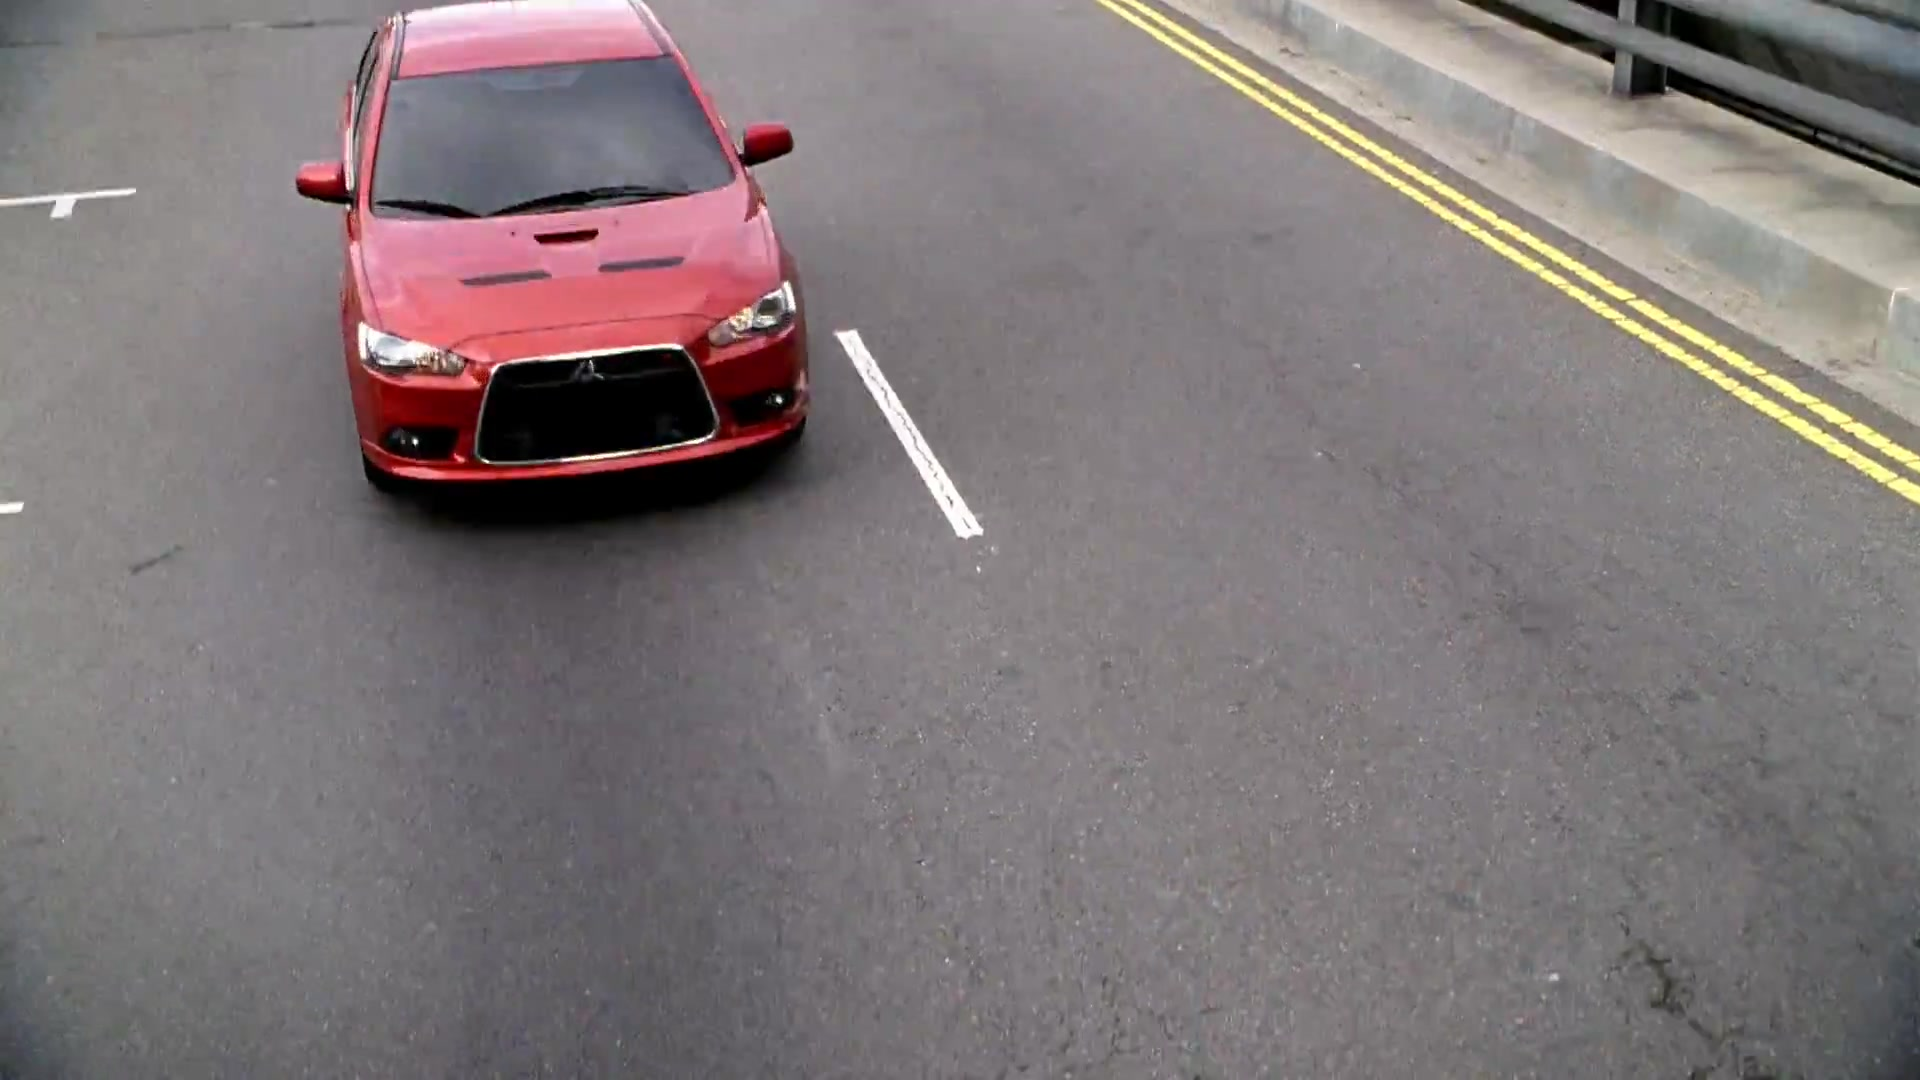car: (291, 3, 806, 520)
